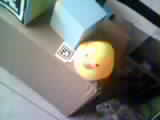duck: (64, 38, 124, 85)
